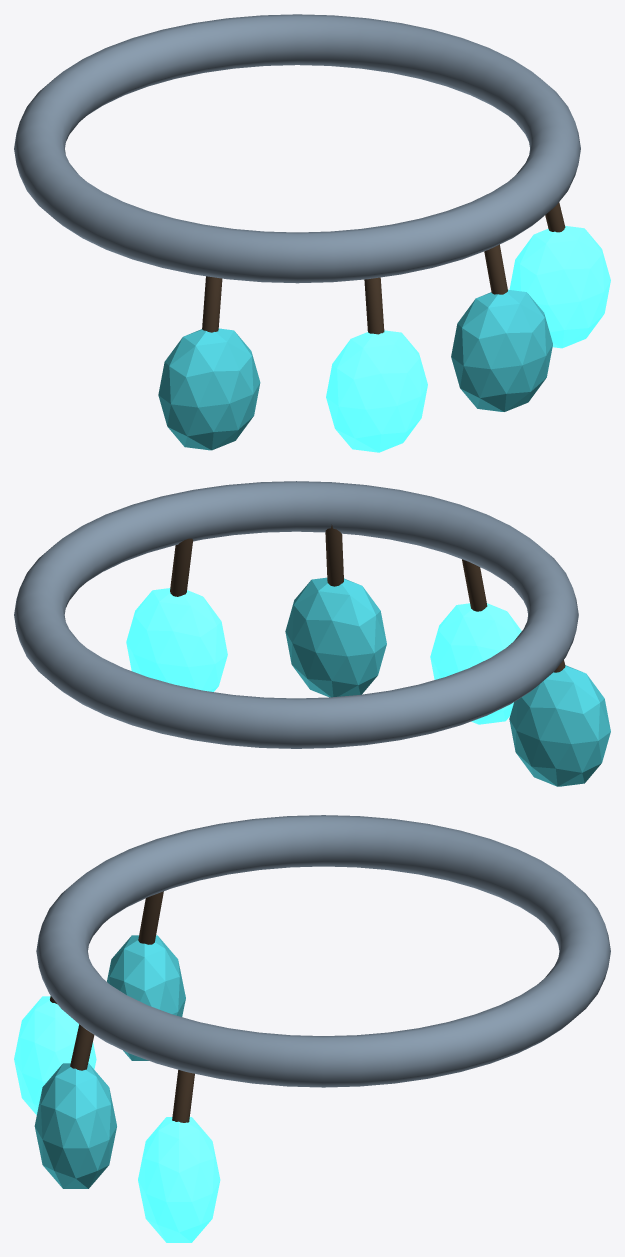
File: bracelet_v4.glb
3 renders of one model, top to bottom at view 1: azimuth 30°, elevation 25°; view 2: azimuth 150°, elevation 25°; view 3: azimuth 270°, elevation 25°, orthographic.
Parts seen in each view (by area): view 1: CHARM_CHAIN_PRIMARY, CHARM_EMISSIVE, CHARM_ACCENT, CHARM_ACCENT.001, CHARM_EMISSIVE.001, CHARM_LINK_SECONDARY.001, CHARM_LINK_SECONDARY, CHARM_LINK_SECONDARY.002; view 2: CHARM_CHAIN_PRIMARY, CHARM_ACCENT.001, CHARM_ACCENT, CHARM_EMISSIVE.001, CHARM_EMISSIVE, CHARM_LINK_SECONDARY.002, CHARM_LINK_SECONDARY.003, CHARM_LINK_SECONDARY.001; view 3: CHARM_CHAIN_PRIMARY, CHARM_EMISSIVE.001, CHARM_ACCENT.001, CHARM_EMISSIVE, CHARM_ACCENT, CHARM_LINK_SECONDARY.003, CHARM_LINK_SECONDARY, CHARM_LINK_SECONDARY.002.
Boxes of the visible parts, bbox=[...] form: CHARM_CHAIN_PRIMARY: bbox=[14, 14, 580, 283]; CHARM_EMISSIVE: bbox=[326, 330, 427, 452]; CHARM_ACCENT: bbox=[158, 328, 260, 450]; CHARM_ACCENT.001: bbox=[451, 289, 552, 411]; CHARM_EMISSIVE.001: bbox=[509, 225, 610, 348]; CHARM_LINK_SECONDARY.001: bbox=[364, 277, 384, 334]; CHARM_LINK_SECONDARY: bbox=[202, 276, 222, 332]; CHARM_LINK_SECONDARY.002: bbox=[484, 244, 507, 294]; CHARM_CHAIN_PRIMARY: bbox=[14, 481, 578, 748]; CHARM_ACCENT.001: bbox=[285, 577, 386, 697]; CHARM_ACCENT: bbox=[509, 665, 610, 786]; CHARM_EMISSIVE.001: bbox=[126, 588, 227, 691]; CHARM_EMISSIVE: bbox=[430, 603, 521, 724]; CHARM_LINK_SECONDARY.002: bbox=[325, 524, 343, 586]; CHARM_LINK_SECONDARY.003: bbox=[170, 538, 193, 596]; CHARM_LINK_SECONDARY.001: bbox=[462, 559, 487, 611]; CHARM_CHAIN_PRIMARY: bbox=[36, 815, 610, 1087]; CHARM_EMISSIVE.001: bbox=[138, 1117, 220, 1242]; CHARM_ACCENT.001: bbox=[34, 1063, 116, 1188]; CHARM_EMISSIVE: bbox=[14, 996, 96, 1115]; CHARM_ACCENT: bbox=[107, 935, 185, 1060]; CHARM_LINK_SECONDARY.003: bbox=[172, 1070, 194, 1122]; CHARM_LINK_SECONDARY: bbox=[138, 891, 163, 944]; CHARM_LINK_SECONDARY.002: bbox=[70, 1024, 94, 1070].
Size of the model in its own units: 1.67 by 0.705 by 1.73.
